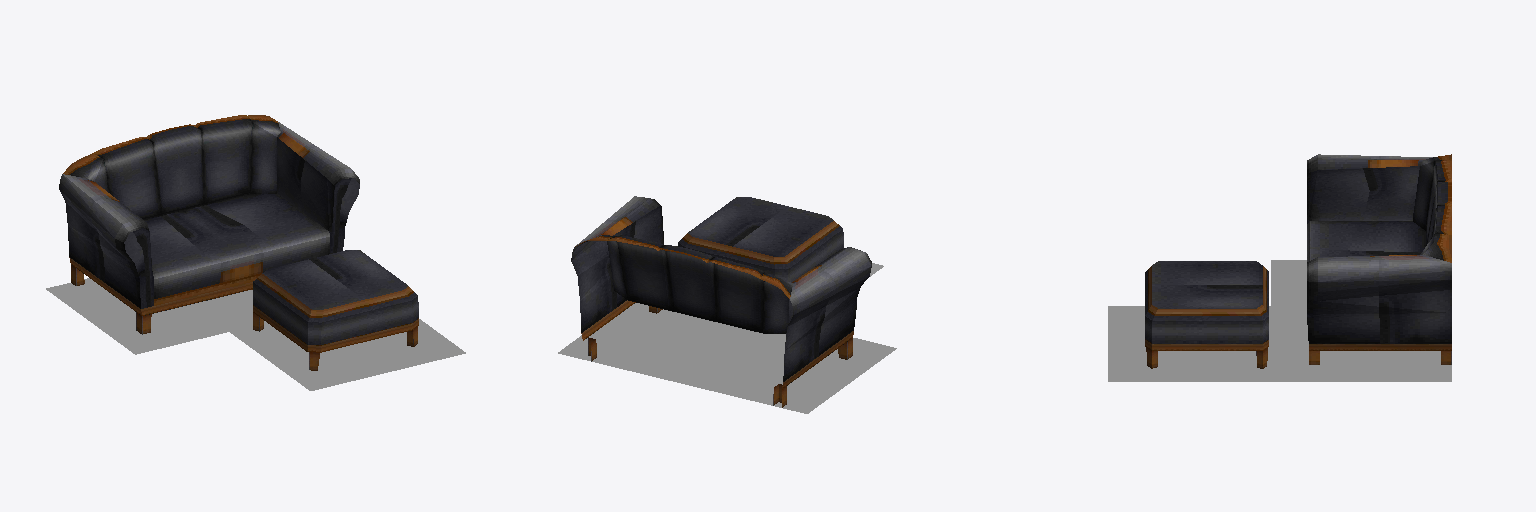
The picture shows the model from 3 angles: view 1: azimuth 30°, elevation 25°; view 2: azimuth 150°, elevation 25°; view 3: azimuth 270°, elevation 25°; orthographic projection.
Parts seen in each view (by area): view 1: vsn_mesh_0_polySurface276_mesh_0_polySurface276, vsn_mesh_1_shadow3_mesh_1_shadow3; view 2: vsn_mesh_0_polySurface276_mesh_0_polySurface276, vsn_mesh_1_shadow3_mesh_1_shadow3; view 3: vsn_mesh_0_polySurface276_mesh_0_polySurface276, vsn_mesh_1_shadow3_mesh_1_shadow3.
Boxes of the visible parts, box(x1,y1,x2,y2) form: vsn_mesh_0_polySurface276_mesh_0_polySurface276: box(59, 115, 418, 370); vsn_mesh_1_shadow3_mesh_1_shadow3: box(46, 278, 465, 390); vsn_mesh_0_polySurface276_mesh_0_polySurface276: box(571, 196, 871, 407); vsn_mesh_1_shadow3_mesh_1_shadow3: box(558, 263, 896, 413); vsn_mesh_0_polySurface276_mesh_0_polySurface276: box(1145, 154, 1451, 368); vsn_mesh_1_shadow3_mesh_1_shadow3: box(1108, 260, 1451, 381).
Bounding box in the file's own units: 16 × 7.95 × 19.
2 materials, 1 textured.